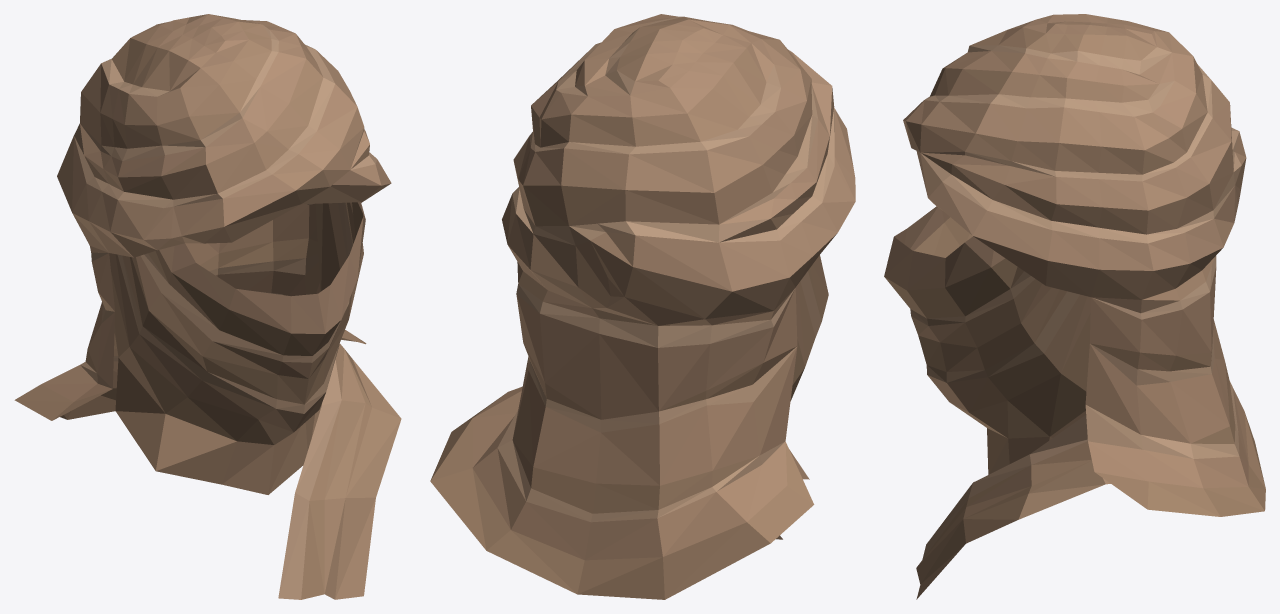
Rendered from desertTurbanCoveringBeige.glb.
3 views of the same model, side by side, from view 1: azimuth 30°, elevation 25°; view 2: azimuth 150°, elevation 25°; view 3: azimuth 270°, elevation 25° (orthographic). The views are drawn at different scales.
Visible parts, largest first — view 1: desertTurbanCoveringBeige; view 2: desertTurbanCoveringBeige; view 3: desertTurbanCoveringBeige.
Part boxes in pixels (x1,y1,x2,y2): desertTurbanCoveringBeige: [14, 14, 401, 599]; desertTurbanCoveringBeige: [430, 14, 855, 599]; desertTurbanCoveringBeige: [884, 14, 1265, 599].
Size of the model in its own units: 0.3616 by 0.5639 by 0.3595.
